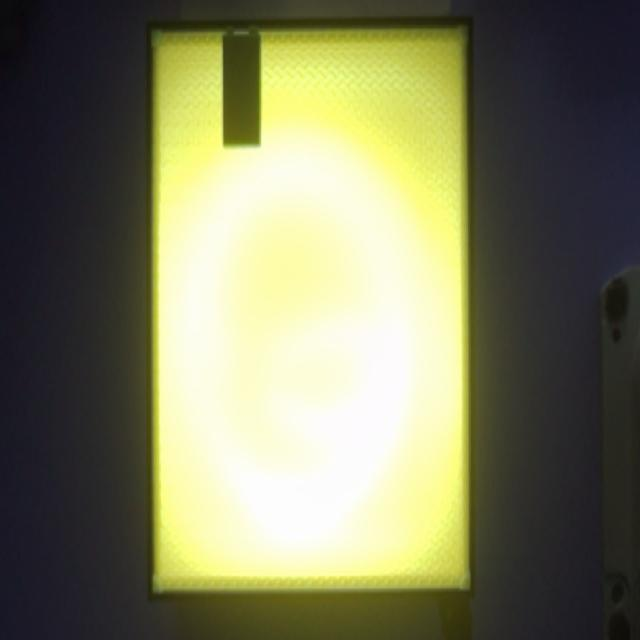Bateria: (223, 34, 261, 147)
Mesa: (147, 17, 475, 600)
Pestana: (249, 27, 258, 33), (226, 27, 234, 33)
